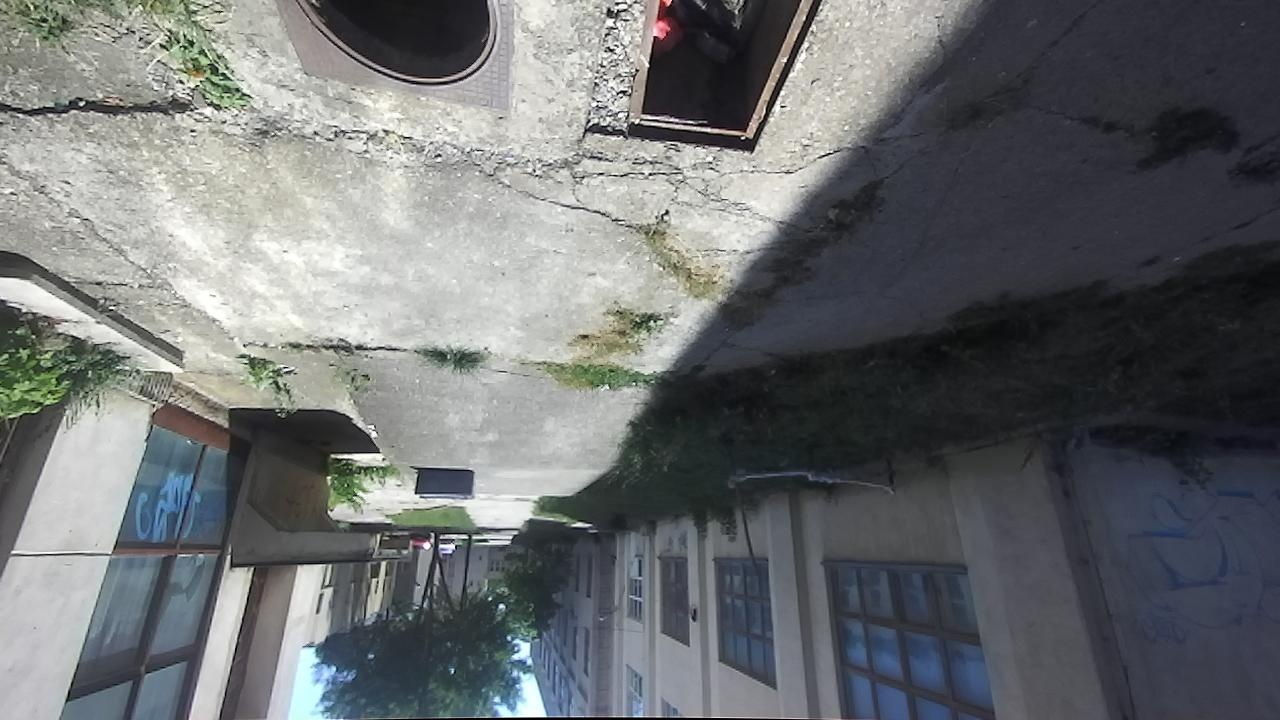drain: (621, 0, 829, 156), (293, 0, 512, 106)
